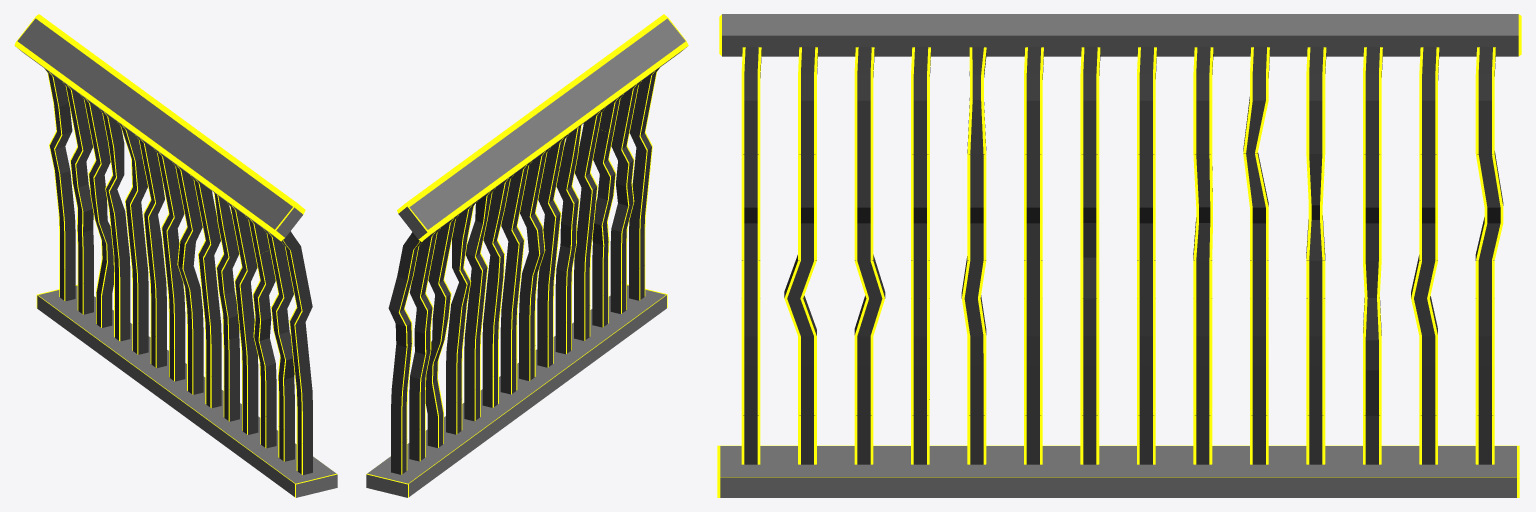
File: J_Barrera_Cells.fbx
The picture shows the model from 3 angles, left to right: view 1: azimuth 30°, elevation 25°; view 2: azimuth 150°, elevation 25°; view 3: azimuth 270°, elevation 25°; orthographic projection. The views are drawn at different scales.
Visible parts, largest first — view 1: Cube.027; view 2: Cube.027; view 3: Cube.027.
Boxes of the visible parts, bbox=[...] form: Cube.027: bbox=[14, 14, 337, 497]; Cube.027: bbox=[366, 14, 688, 497]; Cube.027: bbox=[717, 14, 1521, 497].
Bounding box in the file's own units: 51.88 × 227 × 364.
